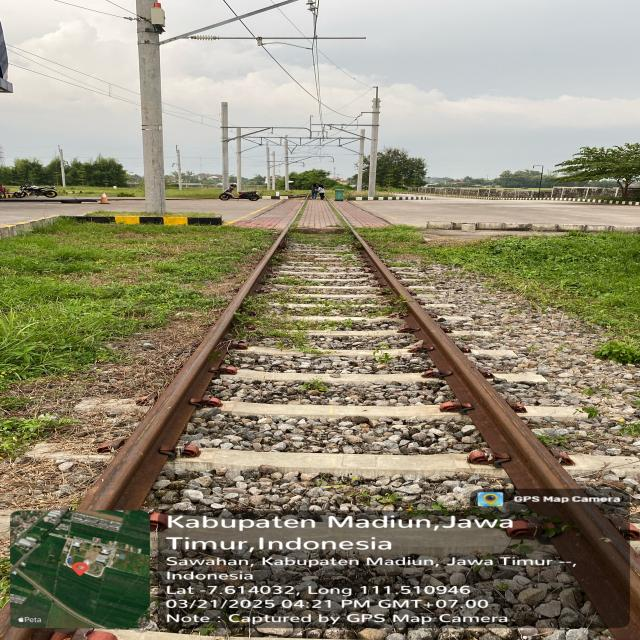rail-detection: (355, 233, 640, 628), (78, 226, 289, 510)
